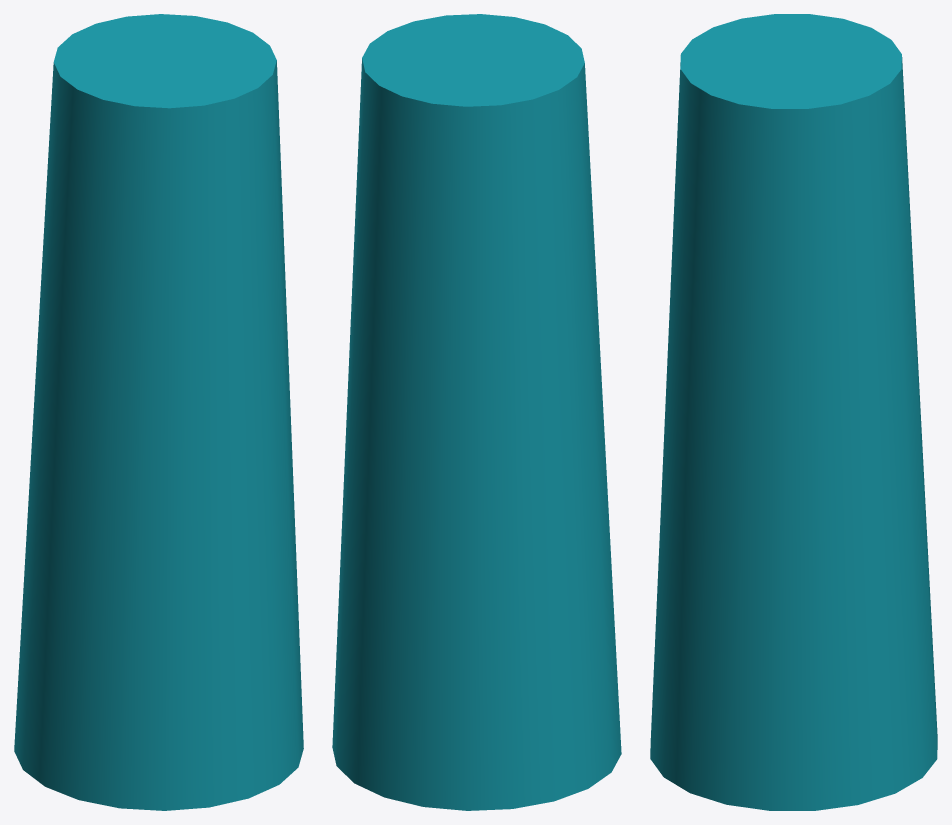
File: Blocker_Edge.fbx
3 renders of one model, left to right at view 1: azimuth 30°, elevation 25°; view 2: azimuth 150°, elevation 25°; view 3: azimuth 270°, elevation 25°, orthographic.
Visible parts, largest first — view 1: Blocker_Edge; view 2: Blocker_Edge; view 3: Blocker_Edge.
Boxes of the visible parts, x1,y1,x2,y2 form: Blocker_Edge: (14, 14, 303, 810); Blocker_Edge: (332, 14, 621, 810); Blocker_Edge: (650, 14, 937, 810).
Bounding box in the file's own units: 1.07 × 2.83 × 1.07.
